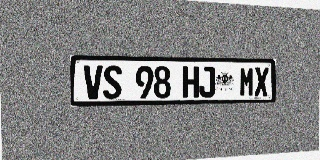8: (154, 66, 171, 98)
9: (136, 66, 153, 99)
H: (183, 66, 199, 98)
J: (199, 66, 215, 98)
M: (239, 67, 254, 97)
S: (103, 65, 122, 99)
V: (84, 65, 103, 99)
X: (254, 67, 269, 97)
